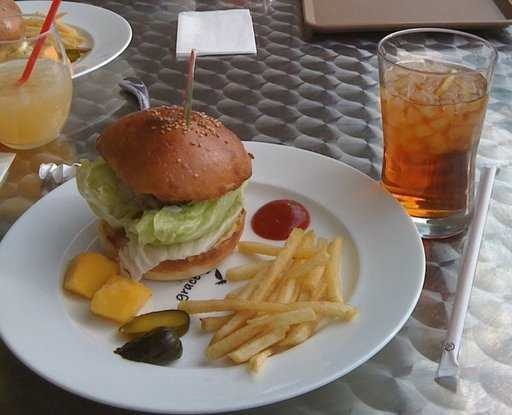hamburger: (78, 96, 255, 292)
